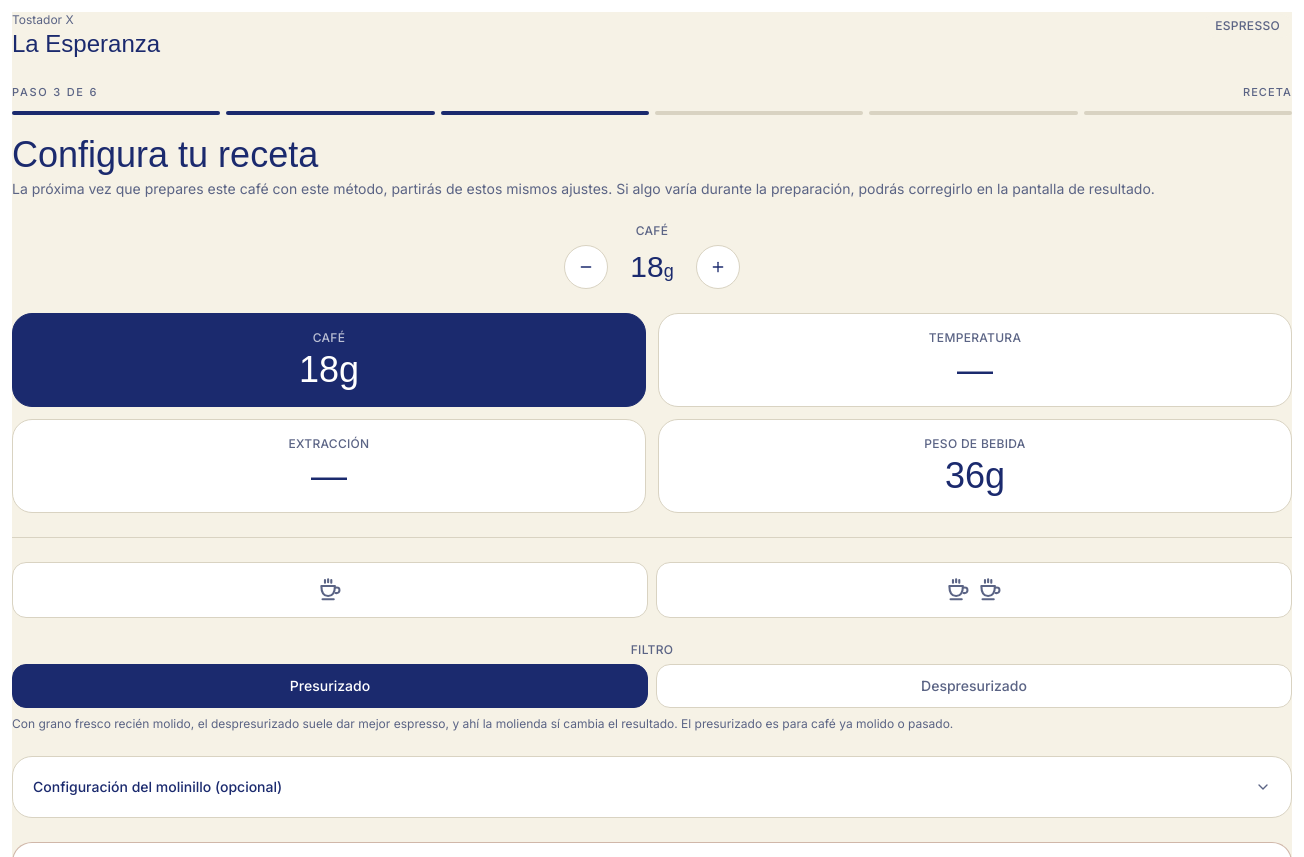
BrewLiveScreen basket advice › suggests the non-pressurized basket on the recipe step to someone who grinds
Expected: the text "Con grano fresco recién molido, el despresurizado suele dar mejor espresso, y ahí la molienda sí cambia el resultado. El" is shown, top-left (12, 716), bottom-right (953, 730)
Click the button "Despresurizado". click: click(974, 686)
box: top-left (656, 664), bottom-right (1292, 708)
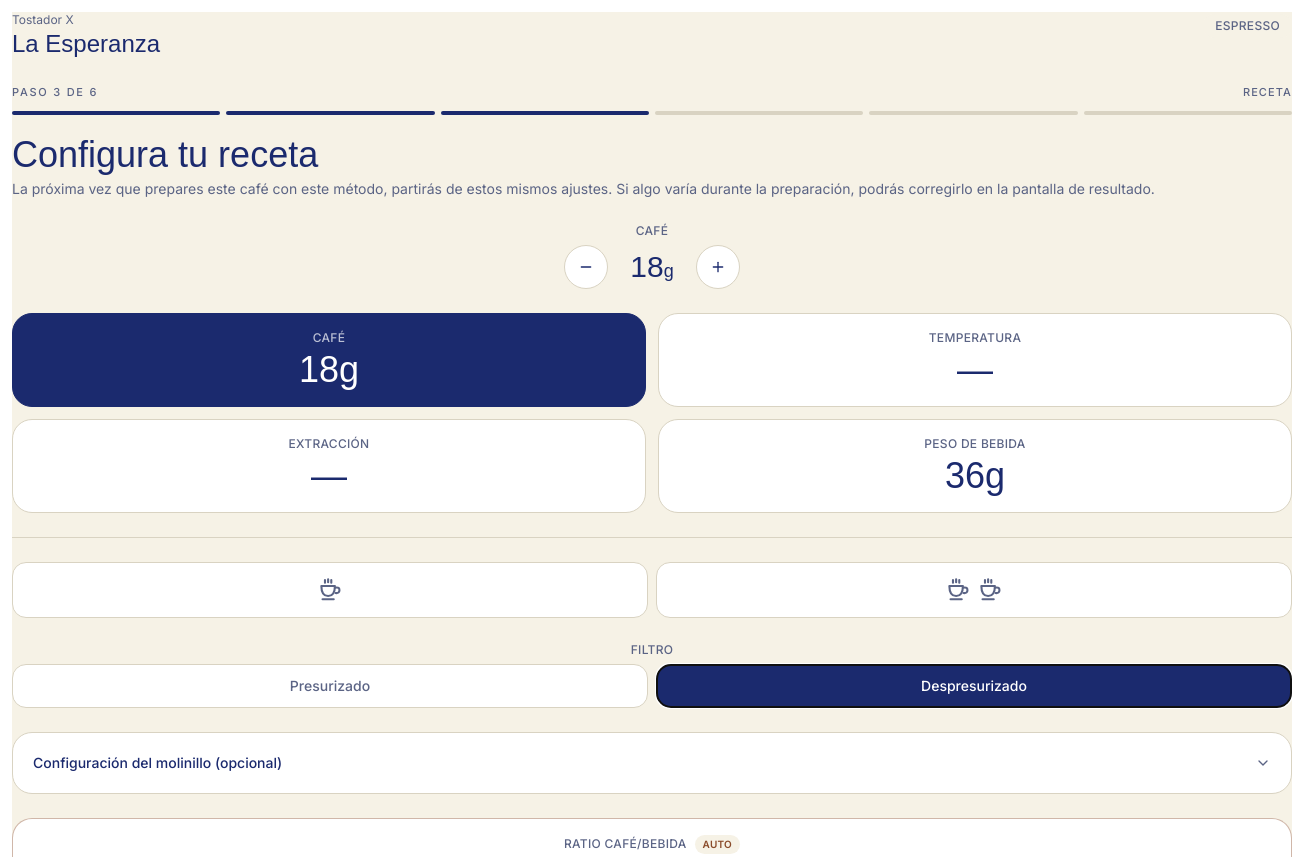
Expected: the text "Con grano fresco recién molido, el despresurizado suele dar mejor espresso, y ahí la molienda sí cambia el resultado. El" is gone
